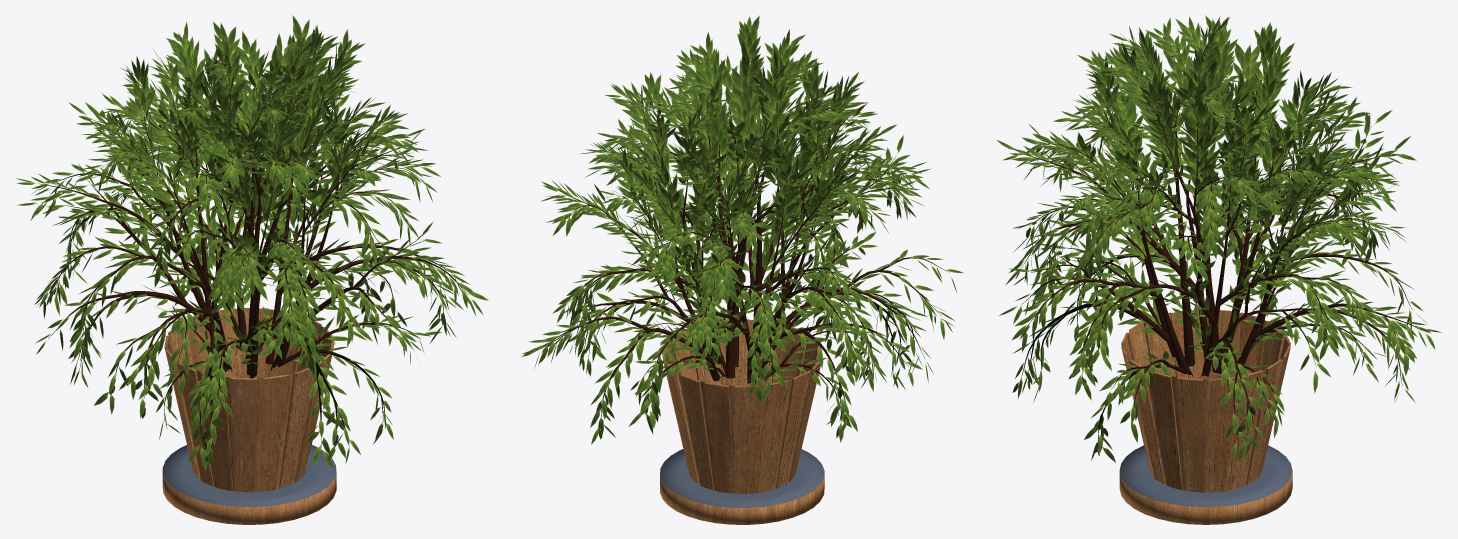
Rendered from Willow-transformed.glb.
3 renders of one model, left to right at view 1: azimuth 30°, elevation 25°; view 2: azimuth 150°, elevation 25°; view 3: azimuth 270°, elevation 25°, orthographic. The views are drawn at different scales.
Parts seen in each view (by area): view 1: Weeping Willow, pot, plate; view 2: Weeping Willow, pot, plate; view 3: Weeping Willow, pot, plate.
Boxes of the visible parts, x1,y1,x2,y2 form: Weeping Willow: [16, 15, 488, 470]; pot: [164, 307, 334, 492]; plate: [162, 445, 336, 524]; Weeping Willow: [521, 15, 964, 444]; pot: [662, 319, 822, 493]; plate: [660, 449, 824, 524]; Weeping Willow: [996, 15, 1441, 462]; pot: [1121, 310, 1290, 492]; plate: [1119, 445, 1292, 524].
Bounding box in the file's own units: 0.5053 × 0.6104 × 0.5281.
5 materials, 4 textured.
